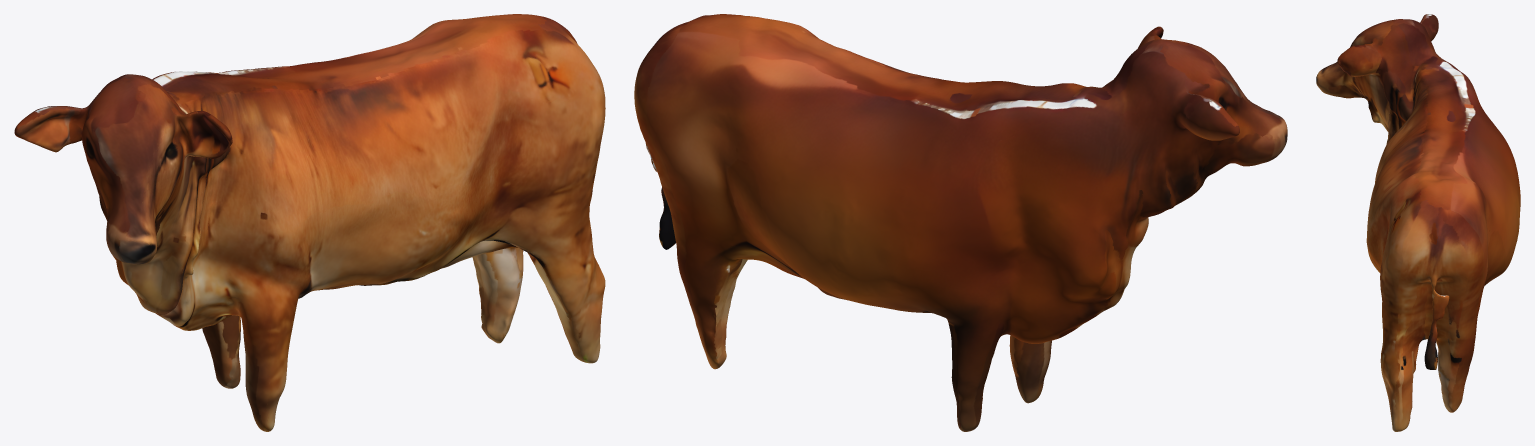
Rendered from adulto.glb.
3 views of the same model, side by side, from view 1: azimuth 30°, elevation 25°; view 2: azimuth 150°, elevation 25°; view 3: azimuth 270°, elevation 25° (orthographic). The views are drawn at different scales.
Parts seen in each view (by area): view 1: mesh; view 2: mesh; view 3: mesh.
Part boxes in pixels (<box>): mesh: <box>14,14,605,431</box>; mesh: <box>634,14,1287,431</box>; mesh: <box>1316,14,1520,431</box>.
Size of the model in its own units: 1.75 by 1.14 by 0.8046.
Materials: 1 (1 with a texture image).
